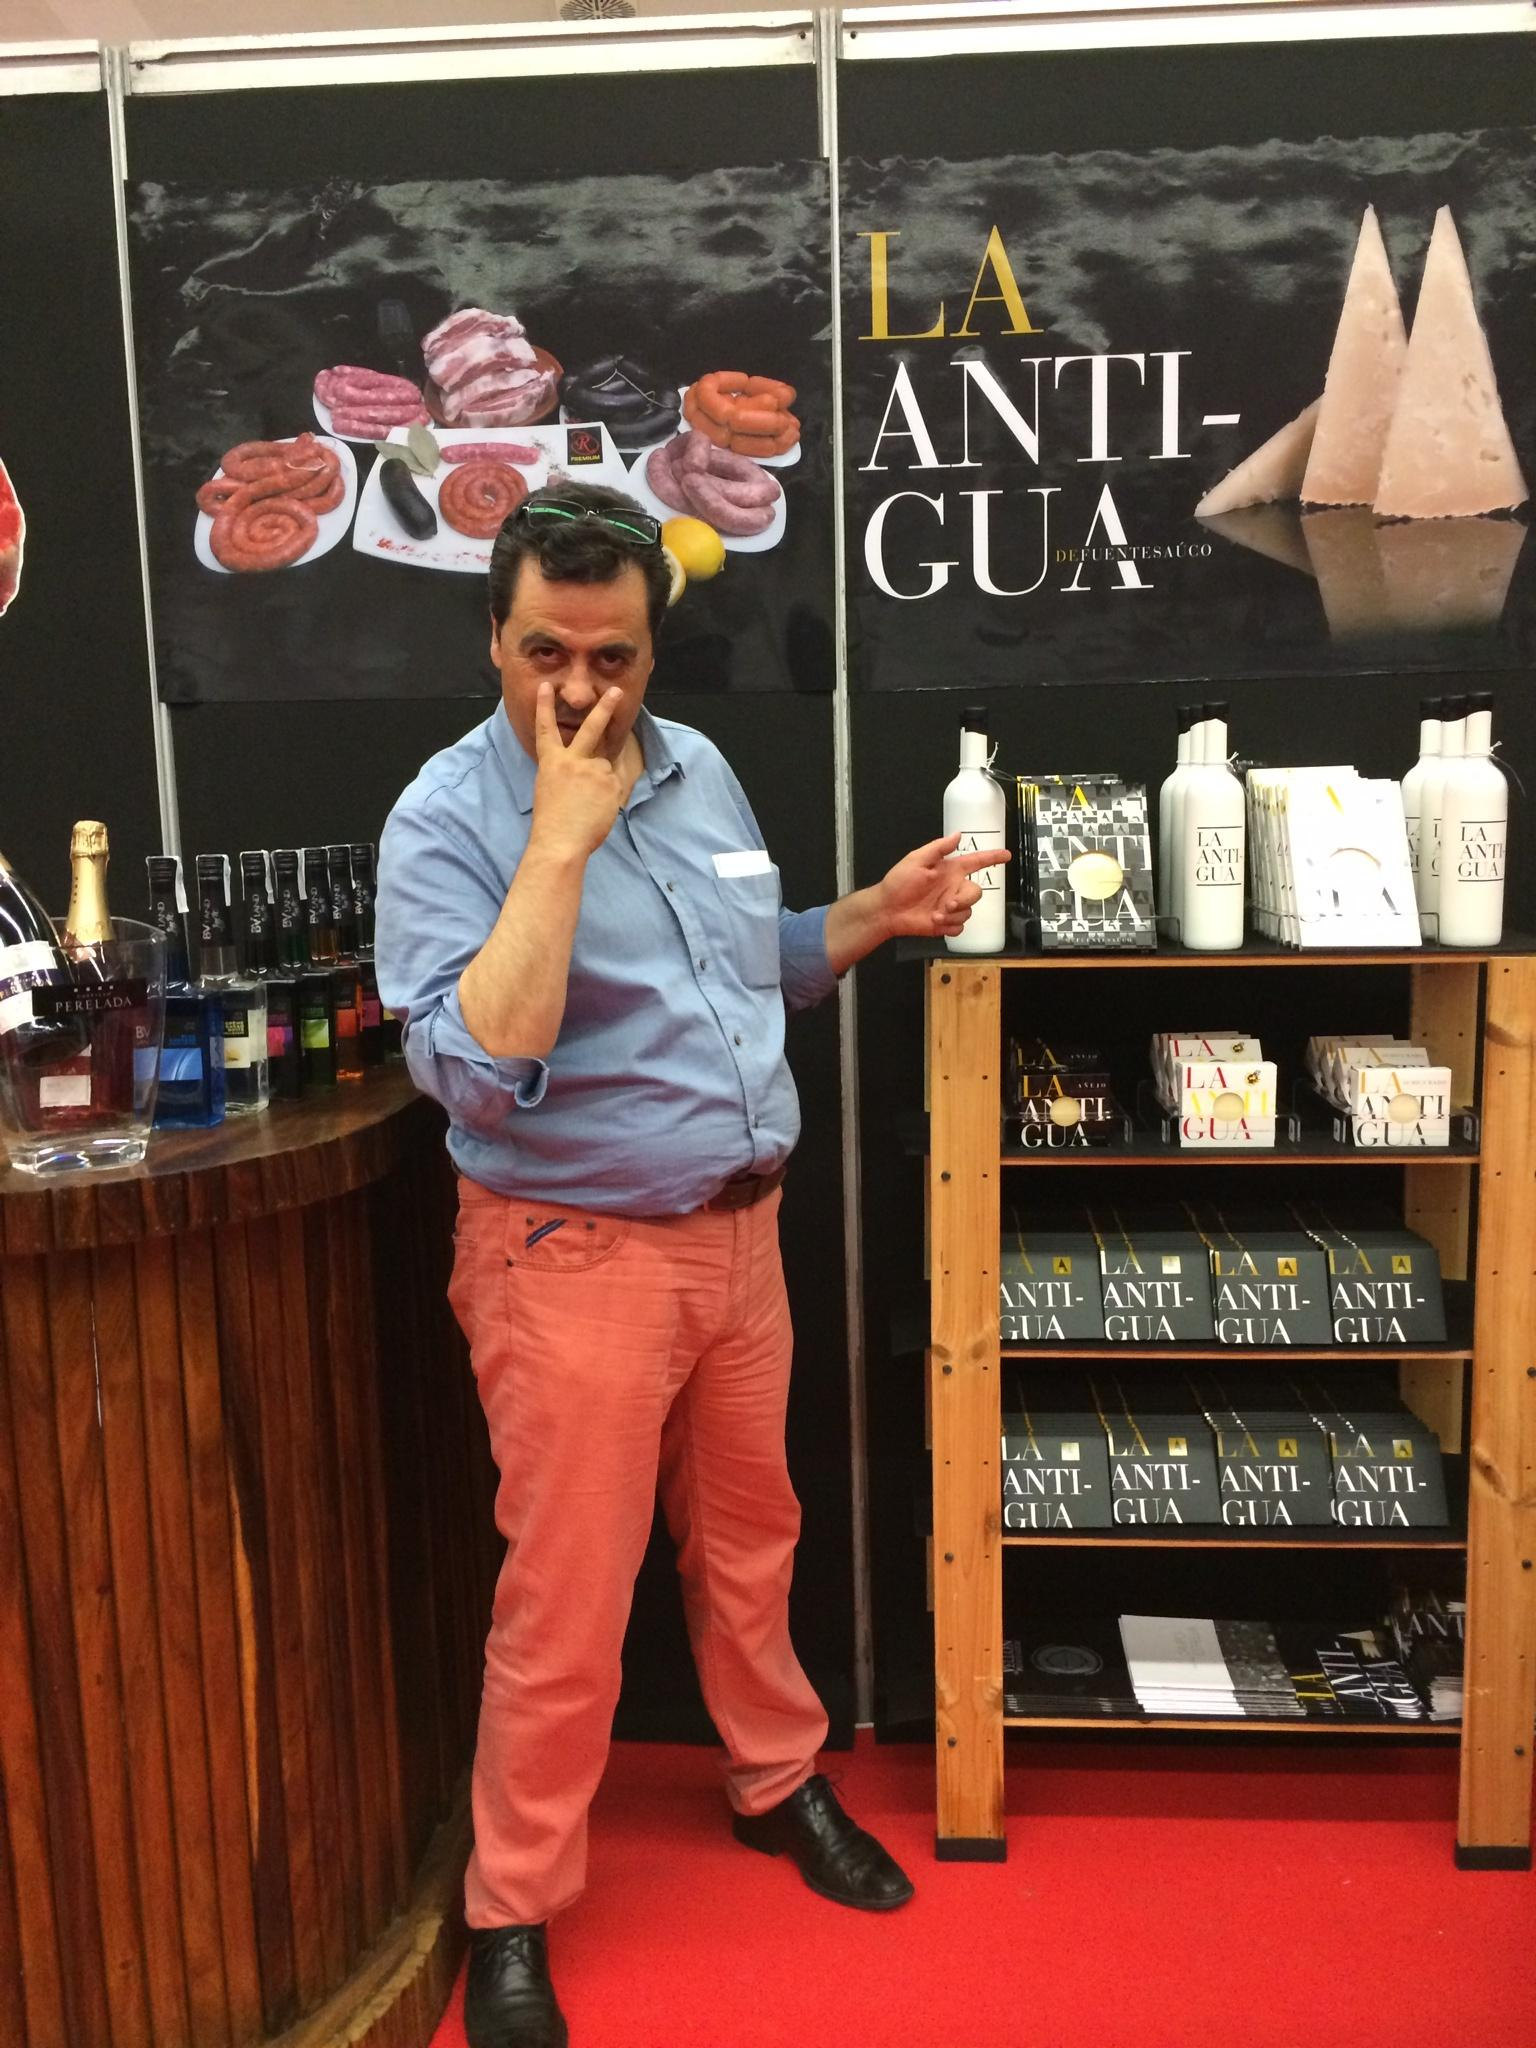Rak: (926, 959, 1534, 1867)
